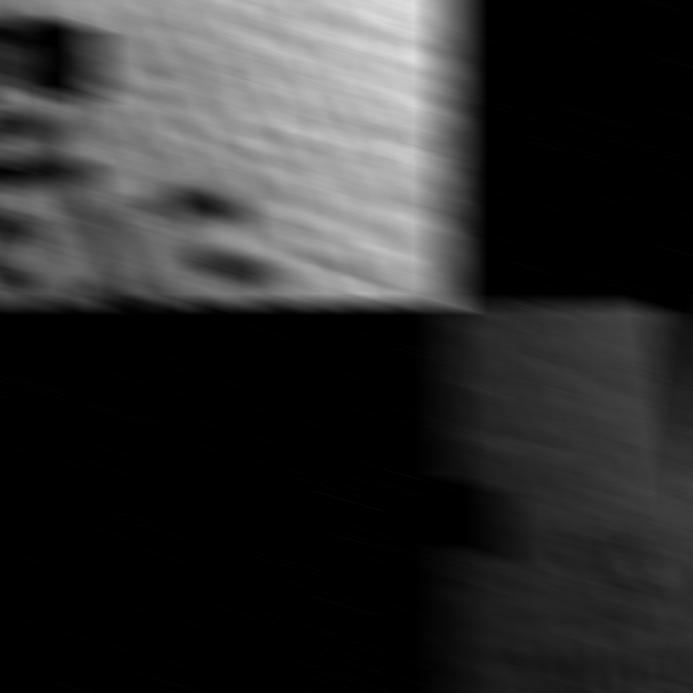AirbagV2: (0, 0, 459, 306), (441, 301, 693, 693)
